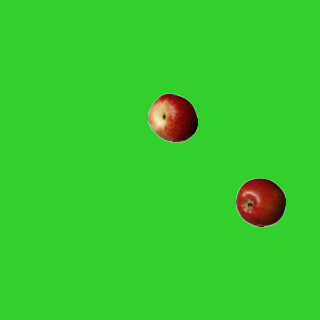Apple Braeburn: (235, 177, 285, 227)
Nectarine: (147, 92, 197, 142)
